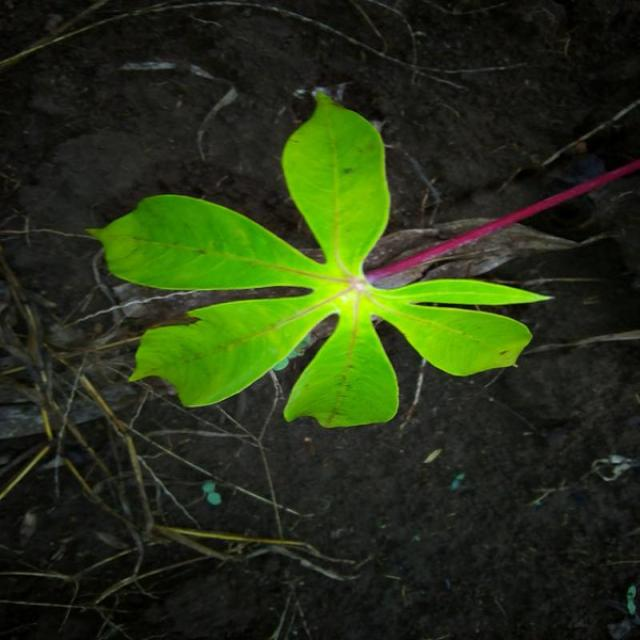cassava leaf: (86, 88, 557, 429)
